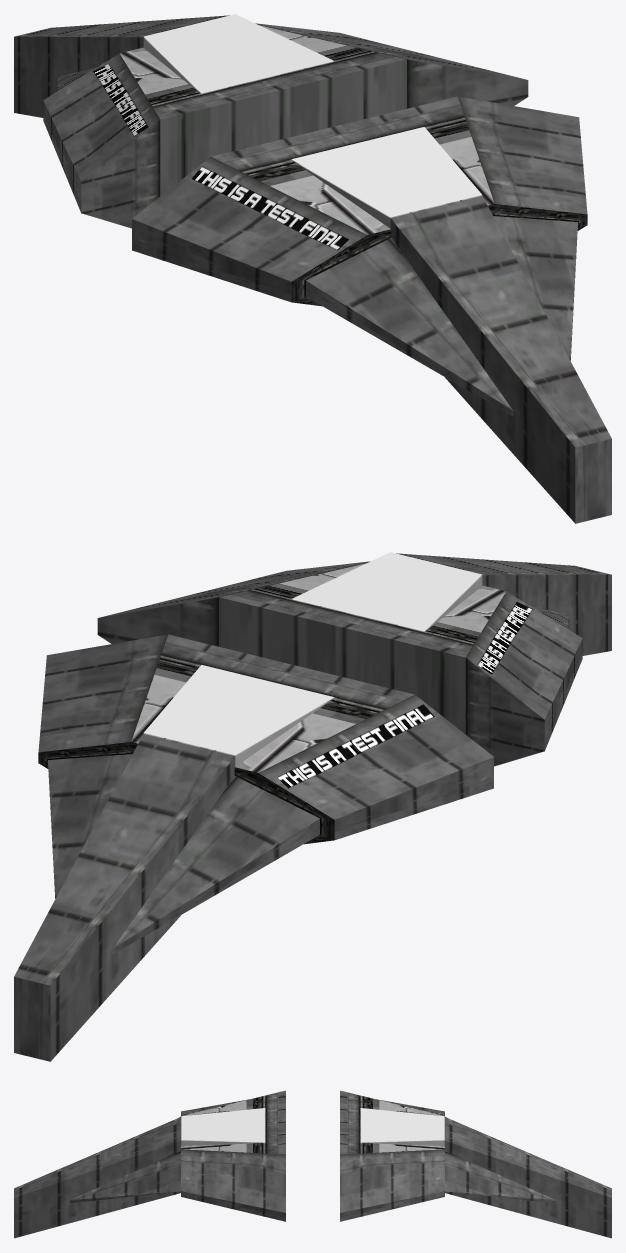
File: spw33.obj
3 views of the same model, one above another, from view 1: azimuth 30°, elevation 25°; view 2: azimuth 150°, elevation 25°; view 3: azimuth 270°, elevation 25° (orthographic). The views are drawn at different scales.
Visible parts, largest first — view 1: SPW330, DECAL010.008, DECAL020.005, NAMEDECAL0.009; view 2: SPW330, DECAL020.005, DECAL010.008, NAMEDECAL0.009; view 3: SPW330, DECAL020.005, DECAL010.008.
Part boxes in pixels (bbox=[...]): SPW330: bbox=[14, 15, 611, 523]; DECAL010.008: bbox=[291, 127, 481, 217]; DECAL020.005: bbox=[144, 14, 333, 93]; NAMEDECAL0.009: bbox=[93, 64, 348, 250]; SPW330: bbox=[14, 553, 611, 1061]; DECAL020.005: bbox=[144, 665, 334, 755]; DECAL010.008: bbox=[292, 552, 481, 631]; NAMEDECAL0.009: bbox=[277, 602, 532, 788]; SPW330: bbox=[14, 1090, 611, 1238]; DECAL020.005: bbox=[360, 1108, 444, 1142]; DECAL010.008: bbox=[181, 1108, 265, 1142].
Bounding box in the file's own units: 52.3 × 23.12 × 114.
4 materials, 4 textured.
